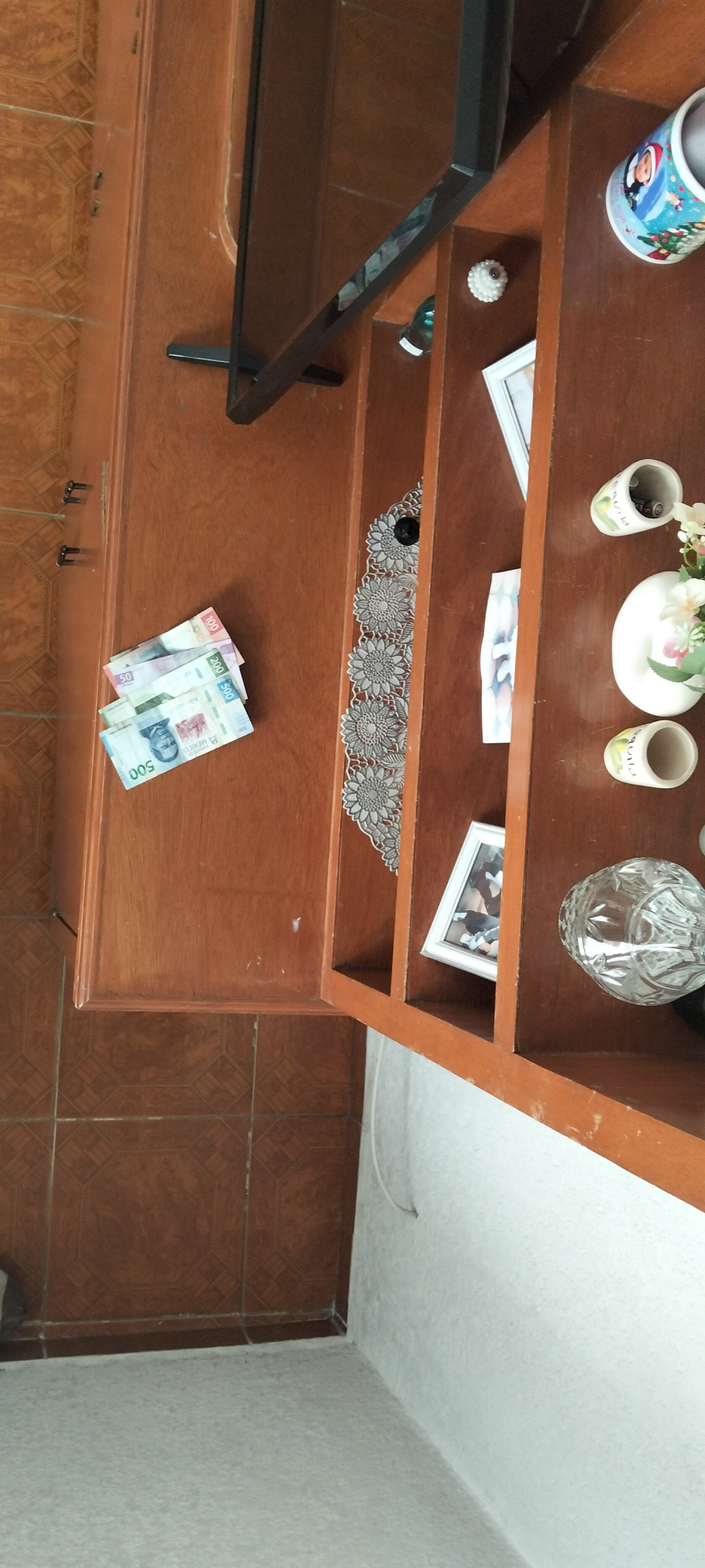billetes: (82, 576, 283, 817)
